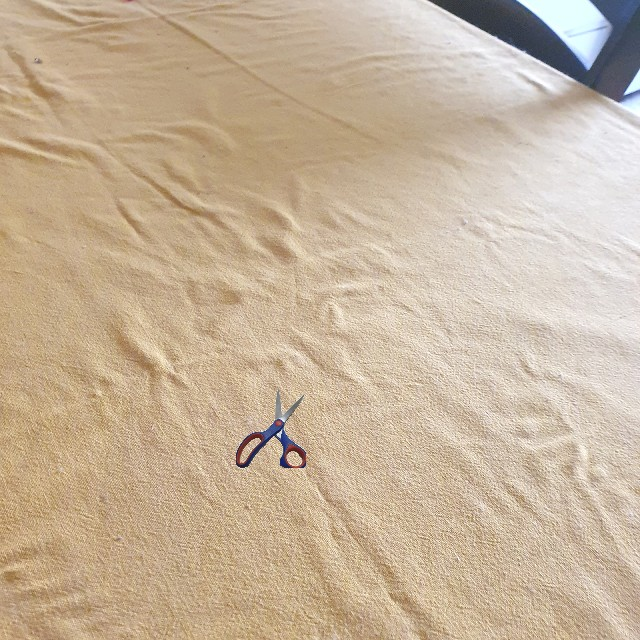scissors: (236, 389, 306, 468)
